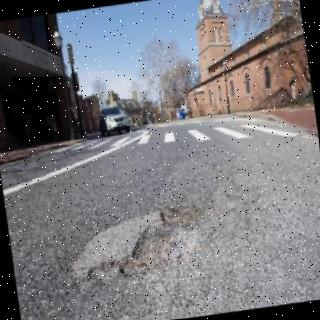pothole: (92, 206, 206, 279)
